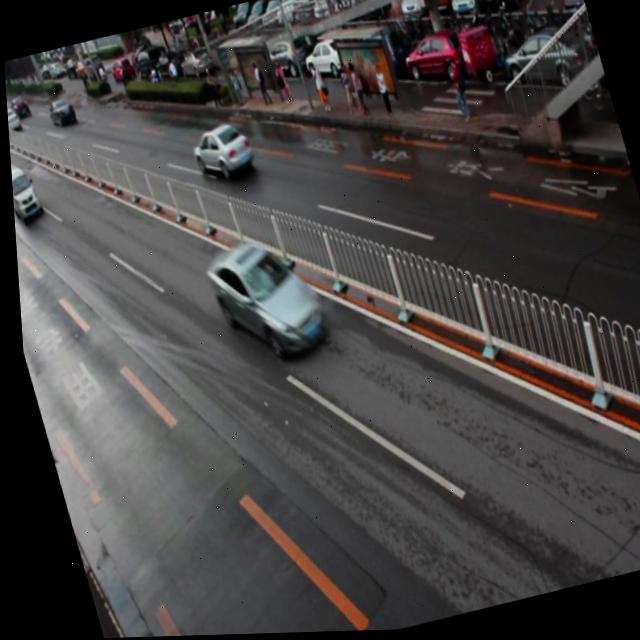car: (196, 230, 330, 373), (183, 116, 255, 185)
truck: (8, 157, 42, 225)
